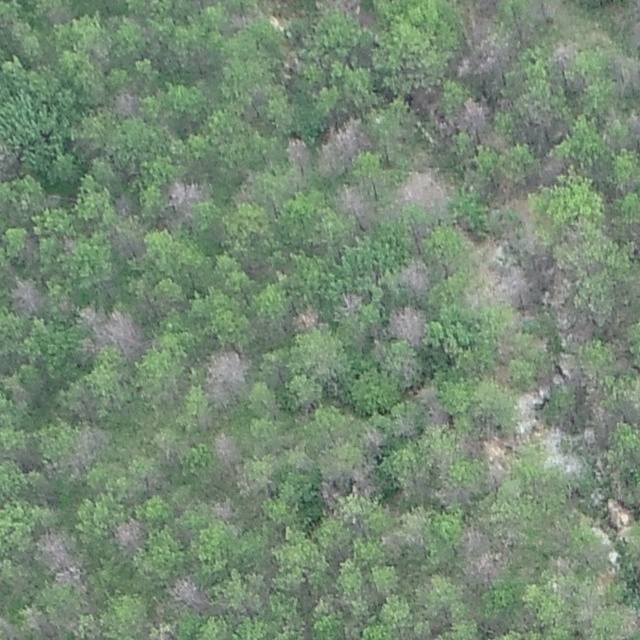unhealthy: (319, 117, 369, 174), (203, 347, 249, 404), (100, 310, 147, 358), (66, 424, 110, 474), (520, 98, 564, 141), (455, 41, 504, 79), (413, 90, 450, 137), (335, 183, 376, 225), (464, 547, 507, 585), (387, 306, 428, 345), (166, 575, 209, 612), (37, 528, 77, 567), (164, 179, 208, 212), (460, 0, 499, 36), (555, 312, 596, 346), (608, 51, 639, 95), (379, 523, 420, 556), (9, 276, 43, 315), (399, 258, 433, 296), (110, 517, 145, 553), (457, 97, 491, 134), (77, 302, 105, 345), (20, 607, 58, 637), (318, 0, 373, 20), (210, 430, 241, 465), (348, 463, 379, 497), (110, 86, 142, 117), (457, 525, 487, 555), (285, 134, 311, 168), (588, 400, 619, 428), (52, 568, 87, 592), (0, 139, 20, 180), (551, 39, 580, 67), (423, 402, 452, 429), (279, 47, 304, 76), (458, 431, 485, 457), (538, 155, 565, 181), (336, 291, 363, 317), (317, 478, 342, 506), (224, 9, 252, 33), (143, 620, 176, 639), (361, 427, 387, 451), (208, 498, 235, 521), (413, 384, 442, 405), (393, 415, 418, 439), (295, 306, 321, 329), (481, 131, 510, 151), (114, 192, 138, 216), (0, 614, 20, 640), (627, 107, 640, 145)
